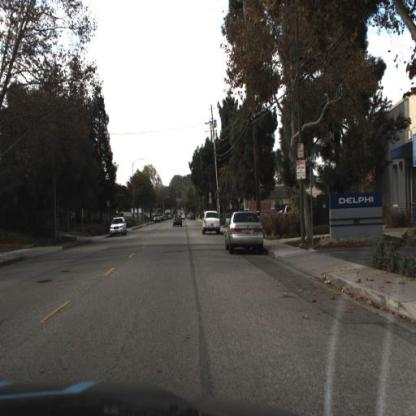car: (223, 208, 264, 257), (224, 209, 264, 255), (199, 209, 224, 237), (109, 213, 130, 240), (203, 210, 220, 233), (110, 215, 128, 236), (171, 212, 186, 230)
